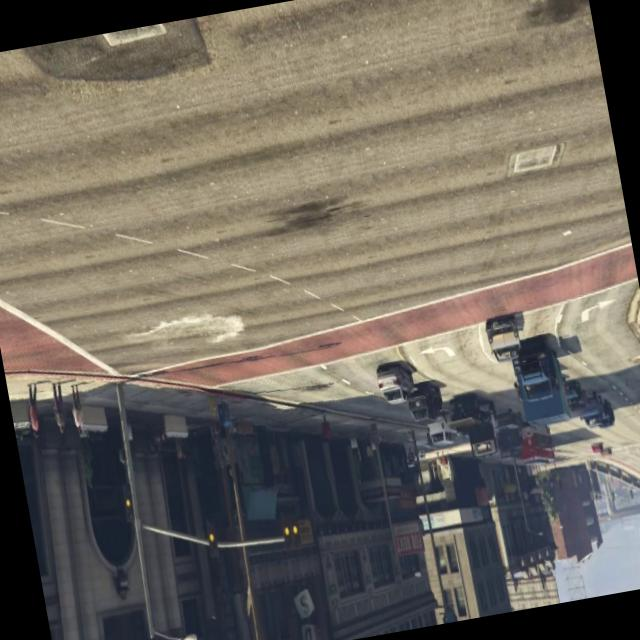Yellow-Signal: (268, 484, 311, 566), (111, 467, 142, 540), (194, 500, 226, 564)
